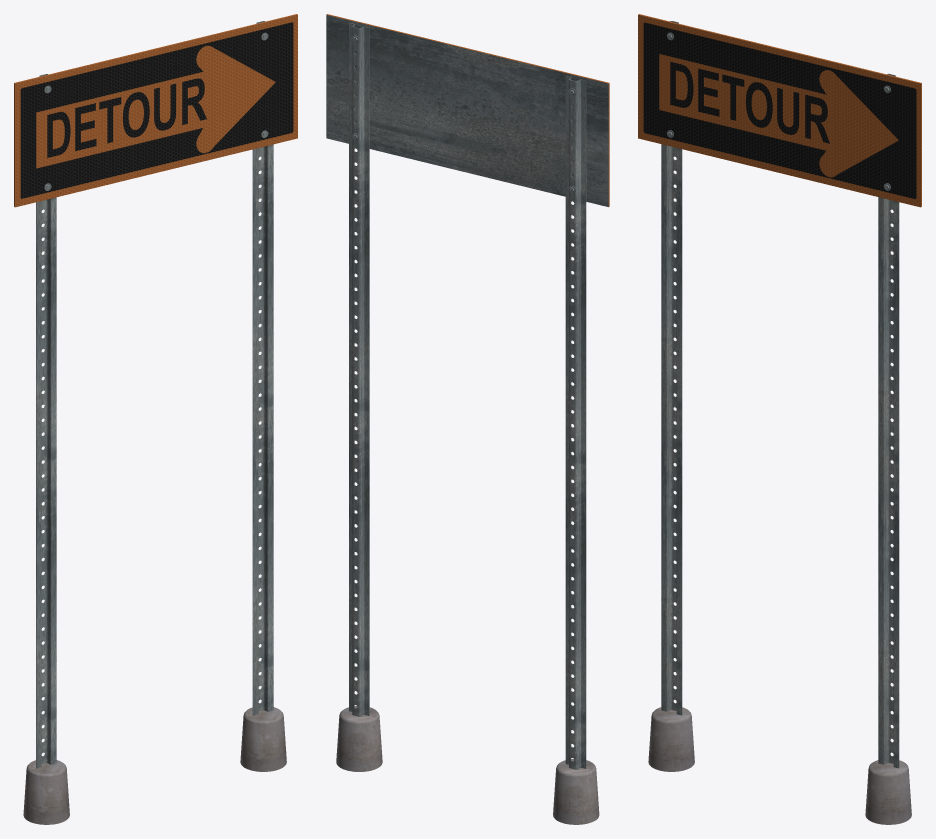
The model's file is detourright_nsoc.obj.
3 renders of one model, left to right at view 1: azimuth 30°, elevation 25°; view 2: azimuth 150°, elevation 25°; view 3: azimuth 330°, elevation 25°, orthographic.
Parts seen in each view (by area): view 1: sign_detour_right; view 2: sign_detour_right; view 3: sign_detour_right.
Boxes of the visible parts, <box> form: sign_detour_right: <box>14,14,297,824</box>; sign_detour_right: <box>326,14,609,824</box>; sign_detour_right: <box>638,14,921,824</box>.
Bounding box in the file's own units: 41.05 × 103 × 5.84.
Materials: 3 (3 with a texture image).
